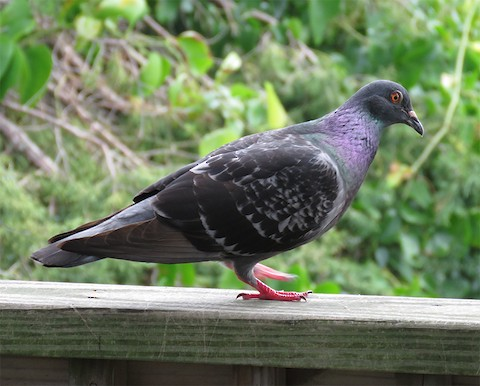pigeon: (27, 71, 426, 305)
